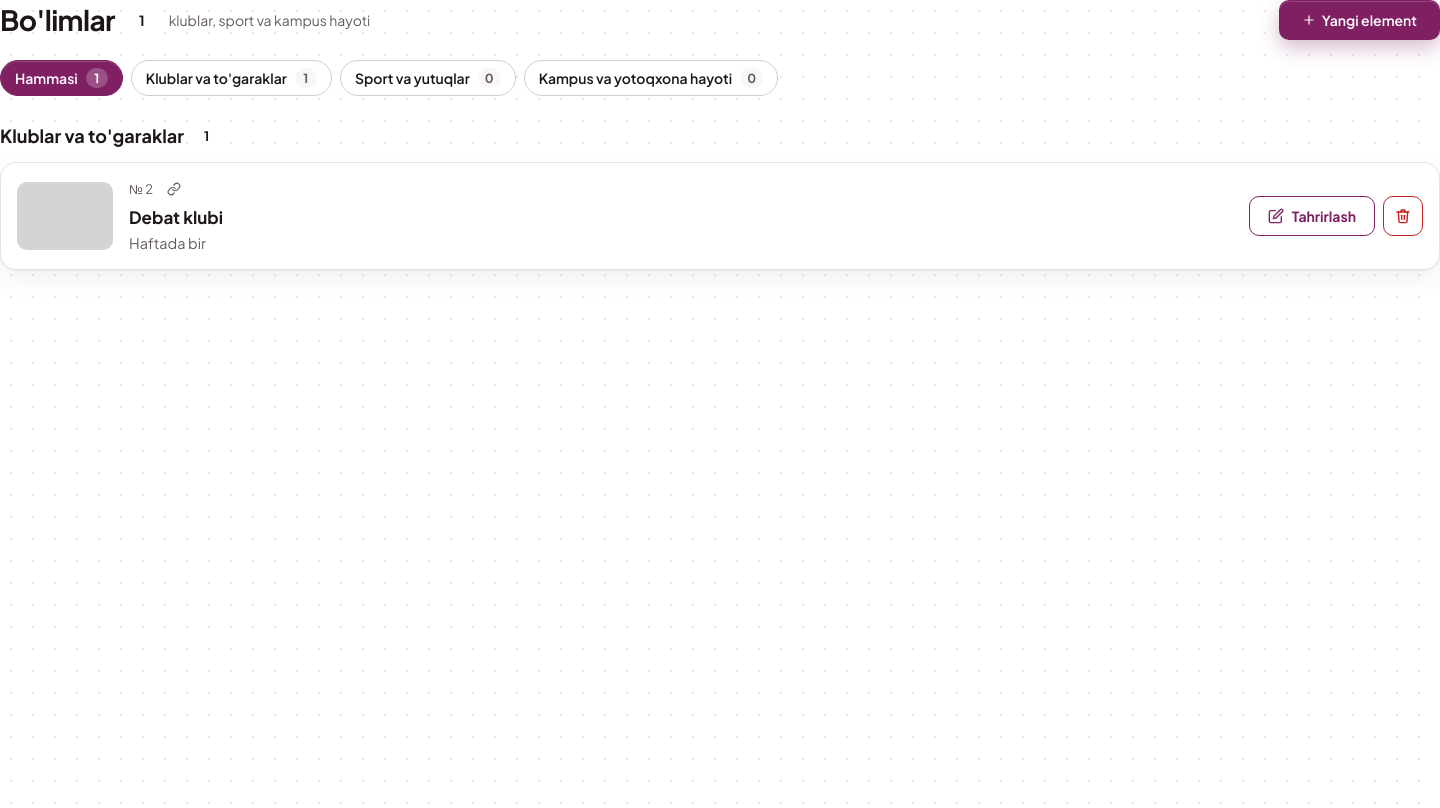
Scenario: SectionsAdmin: forma › nom bo'sh bo'lsa so'rov ketmaydi
Expected: the heading "Debat klubi" is shown, [129,206,223,228]
Click the button "Yangi element".
click(1359, 20)  # box [1279,0,1439,40]
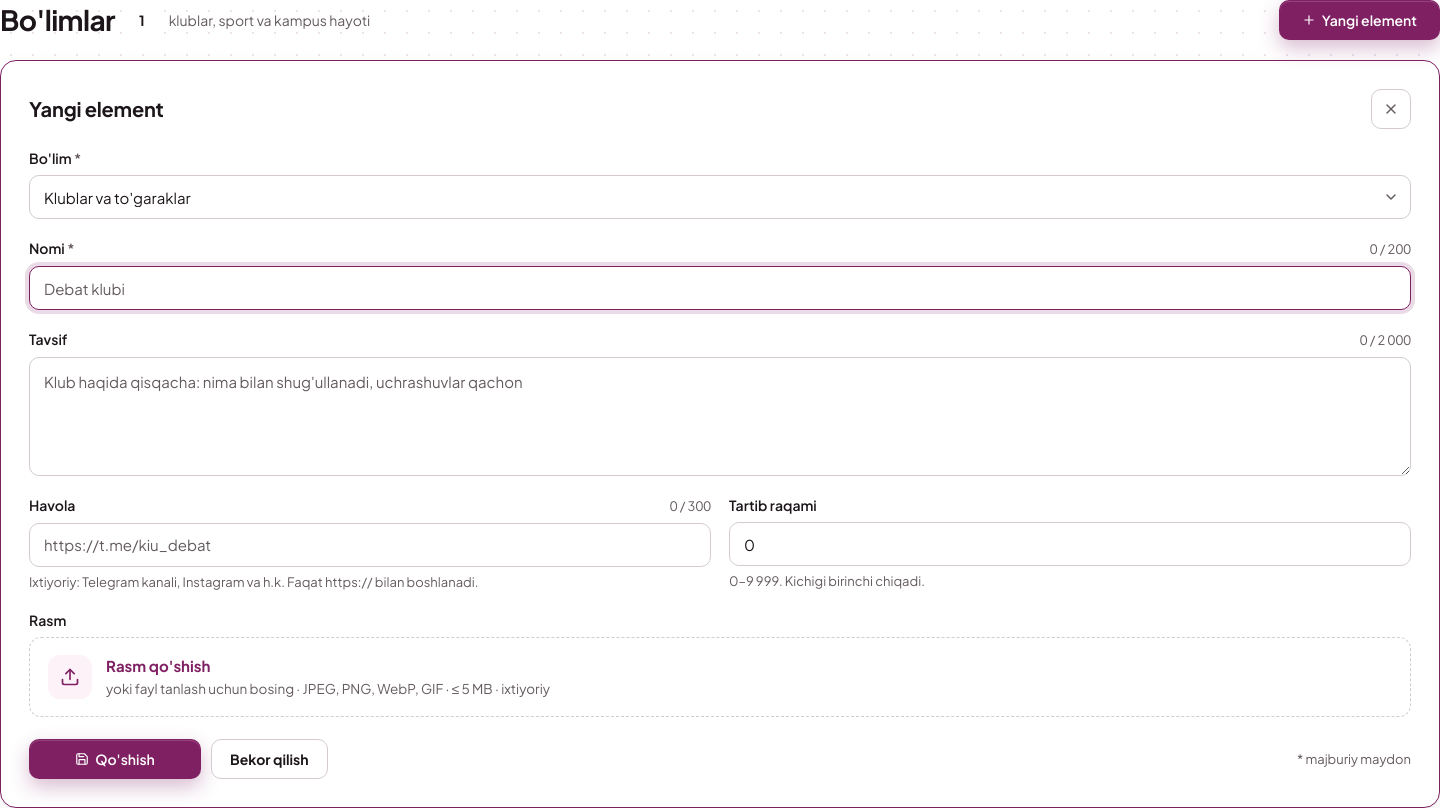
Click the button "Qo'shish".
click(115, 759)  # box [29,739,201,779]
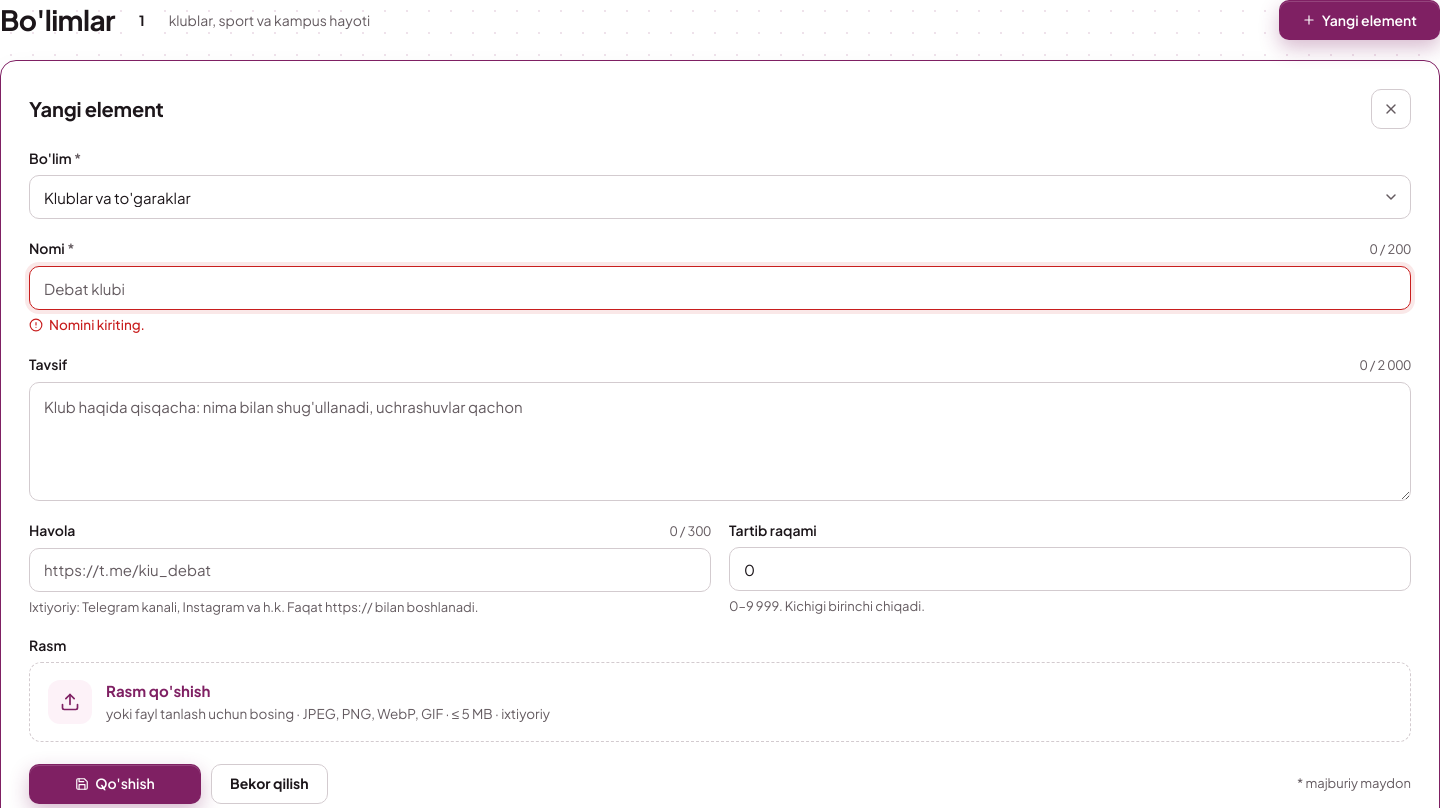
Expected: the text "Nomini kiriting." is shown, [49,316,145,335]
